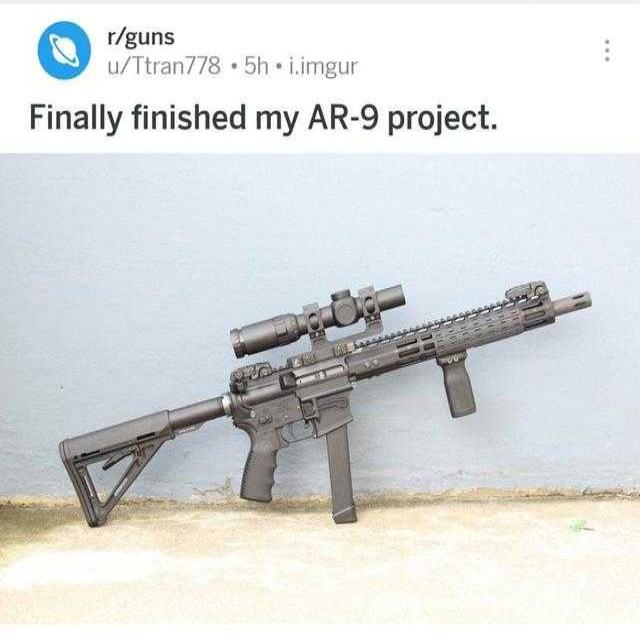heavyweapon: (38, 251, 595, 540)
